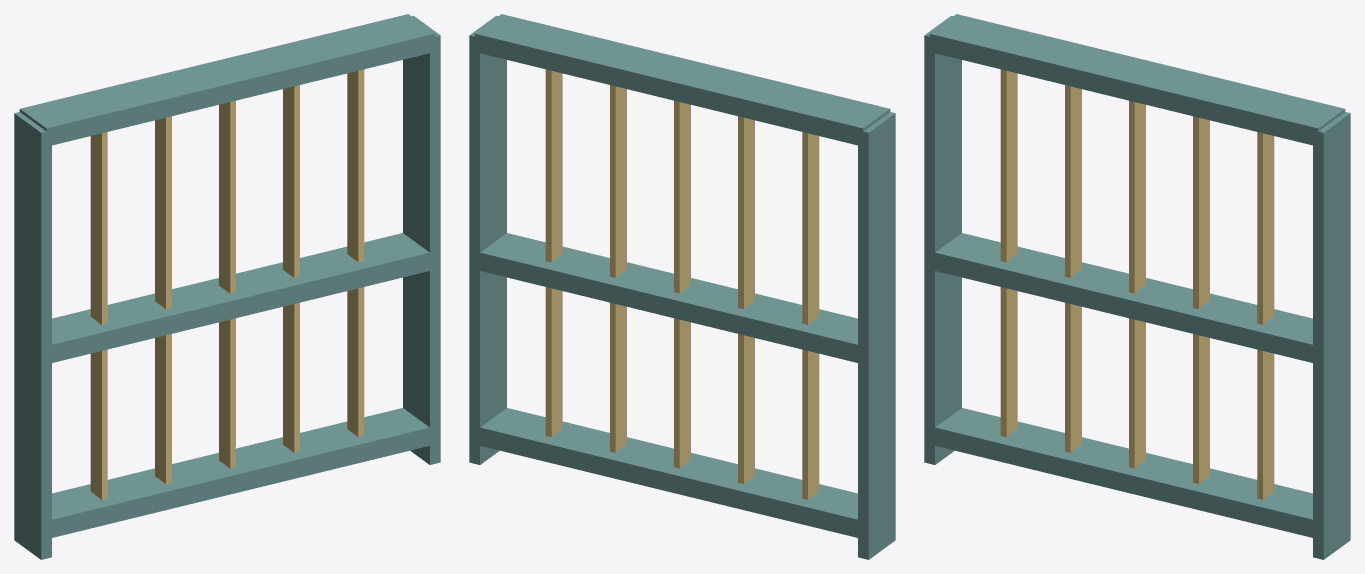
Rendered from MarketBattleFence.glb.
The picture shows the model from 3 angles, left to right: view 1: azimuth 30°, elevation 25°; view 2: azimuth 150°, elevation 25°; view 3: azimuth 330°, elevation 25°; orthographic projection.
Visible parts, largest first — view 1: MarketBattleFence; view 2: MarketBattleFence; view 3: MarketBattleFence.
Part boxes in pixels (bbox=[...]): MarketBattleFence: bbox=[14, 14, 440, 559]; MarketBattleFence: bbox=[469, 14, 895, 559]; MarketBattleFence: bbox=[924, 14, 1350, 559].
Size of the model in its own units: 2.06 by 2.12 by 0.24.
